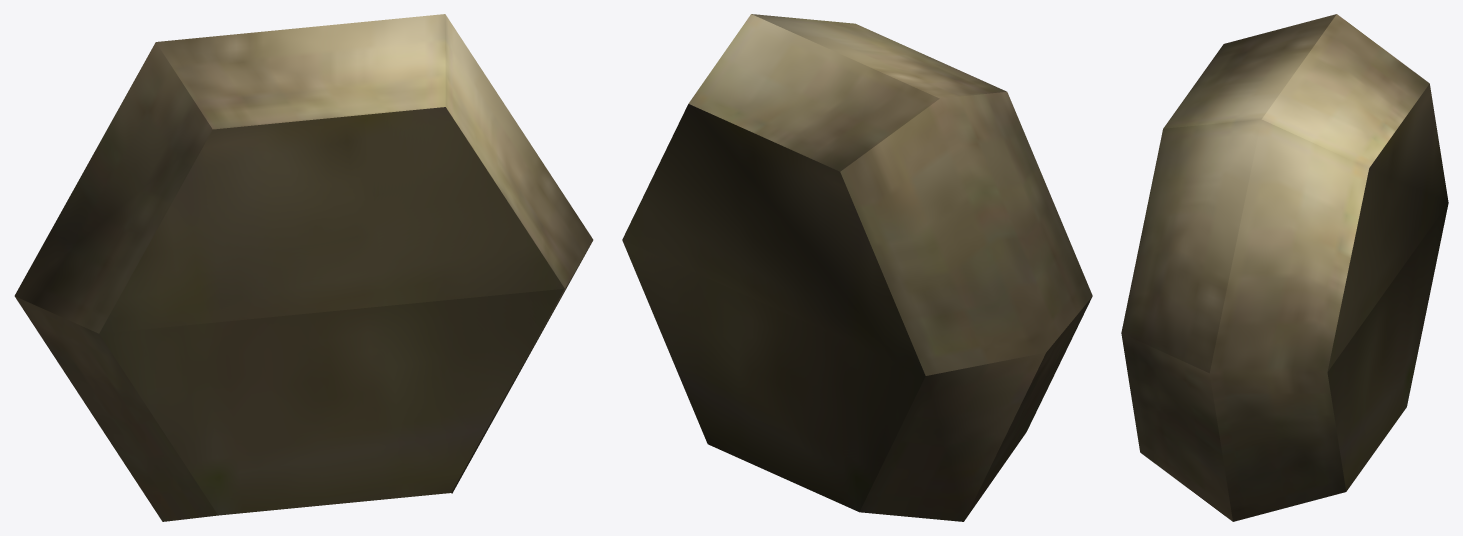
The model's file is gutou_003.FBX.
The picture shows the model from 3 angles, left to right: view 1: azimuth 30°, elevation 25°; view 2: azimuth 150°, elevation 25°; view 3: azimuth 270°, elevation 25°; orthographic projection. The views are drawn at different scales.
Visible parts, largest first — view 1: Object100; view 2: Object100; view 3: Object100.
Boxes of the visible parts, box(x1,y1,x2,y2) form: Object100: box(14, 14, 593, 521); Object100: box(622, 14, 1092, 521); Object100: box(1121, 14, 1448, 521).
Bounding box in the file's own units: 120 × 109 × 79.3.
